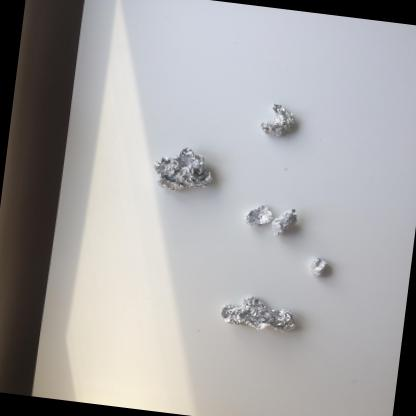Metal: (219, 295, 294, 331), (152, 146, 212, 190), (258, 102, 293, 135), (268, 207, 296, 235), (242, 203, 273, 225), (308, 256, 326, 275)
